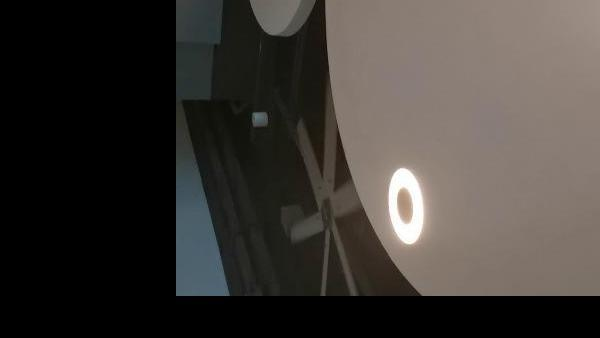light_on: (374, 150, 432, 257)
